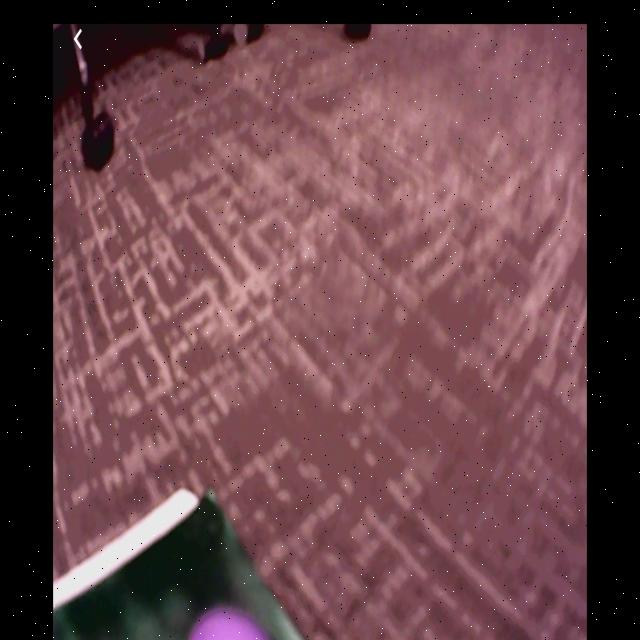ball: (186, 609, 273, 639)
